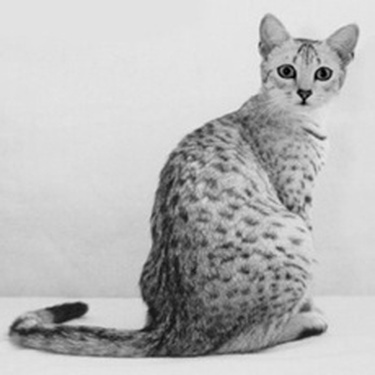cat: (6, 9, 357, 362)
